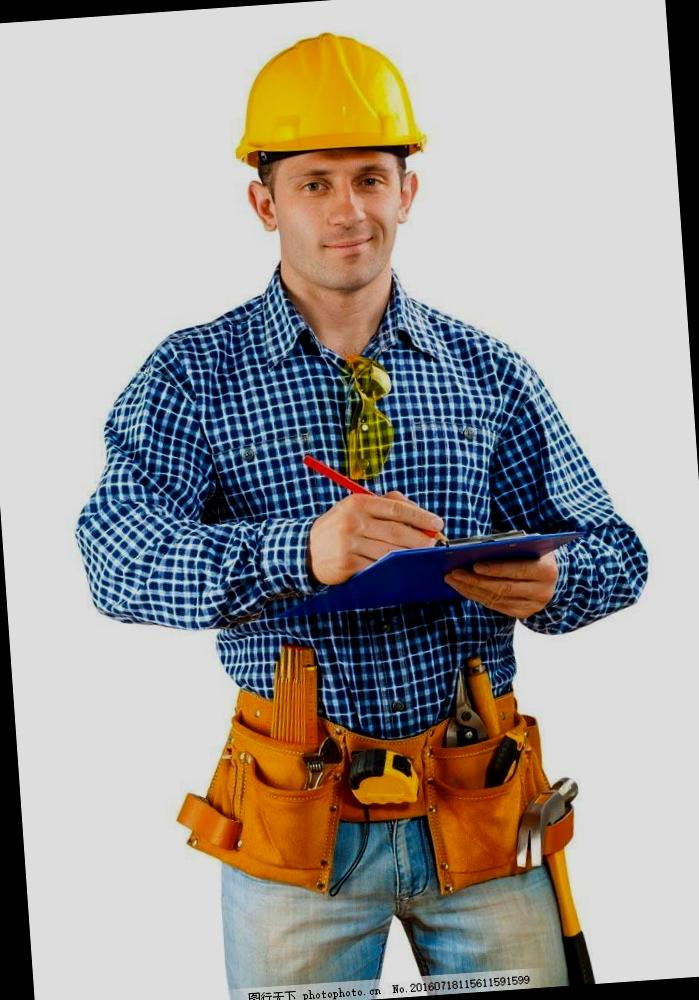helmet: (220, 20, 440, 182)
no_vest: (147, 282, 591, 766)
person: (41, 11, 673, 1000)
